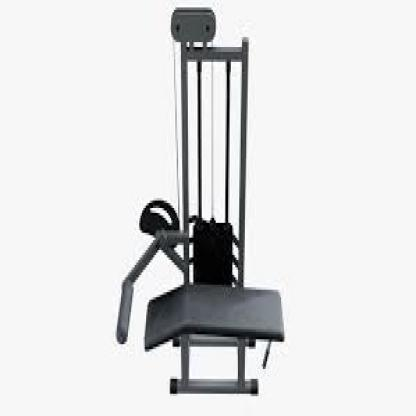reg curl machine: (117, 7, 286, 400)
